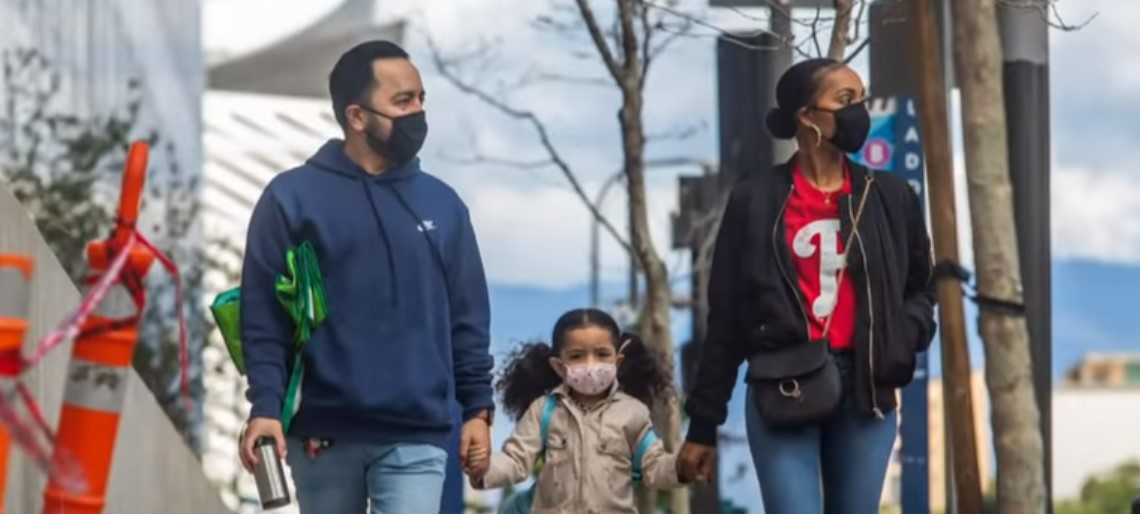face_with_mask: (329, 40, 428, 162), (777, 55, 877, 157), (552, 307, 625, 397)
